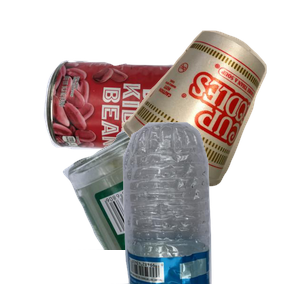glass: (60, 120, 300, 300)
metal: (41, 58, 240, 207)
plastic: (111, 120, 300, 300)
trash: (119, 28, 300, 207)
